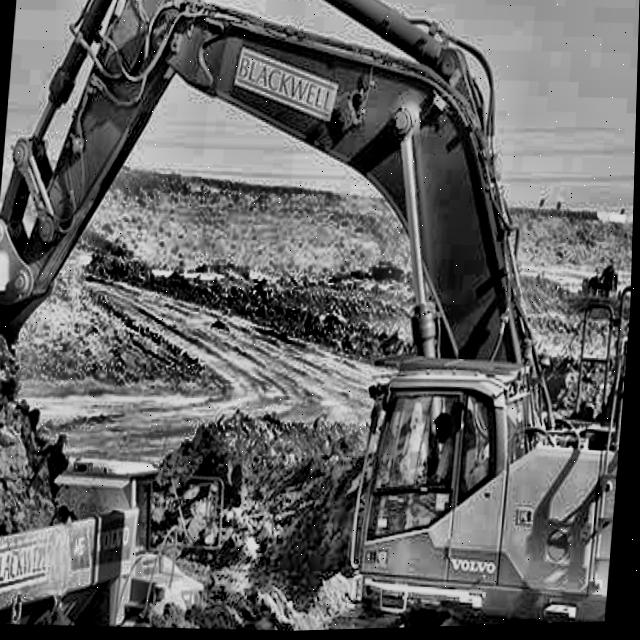dump_truck: (0, 418, 254, 637)
excavator: (0, 0, 640, 640)
